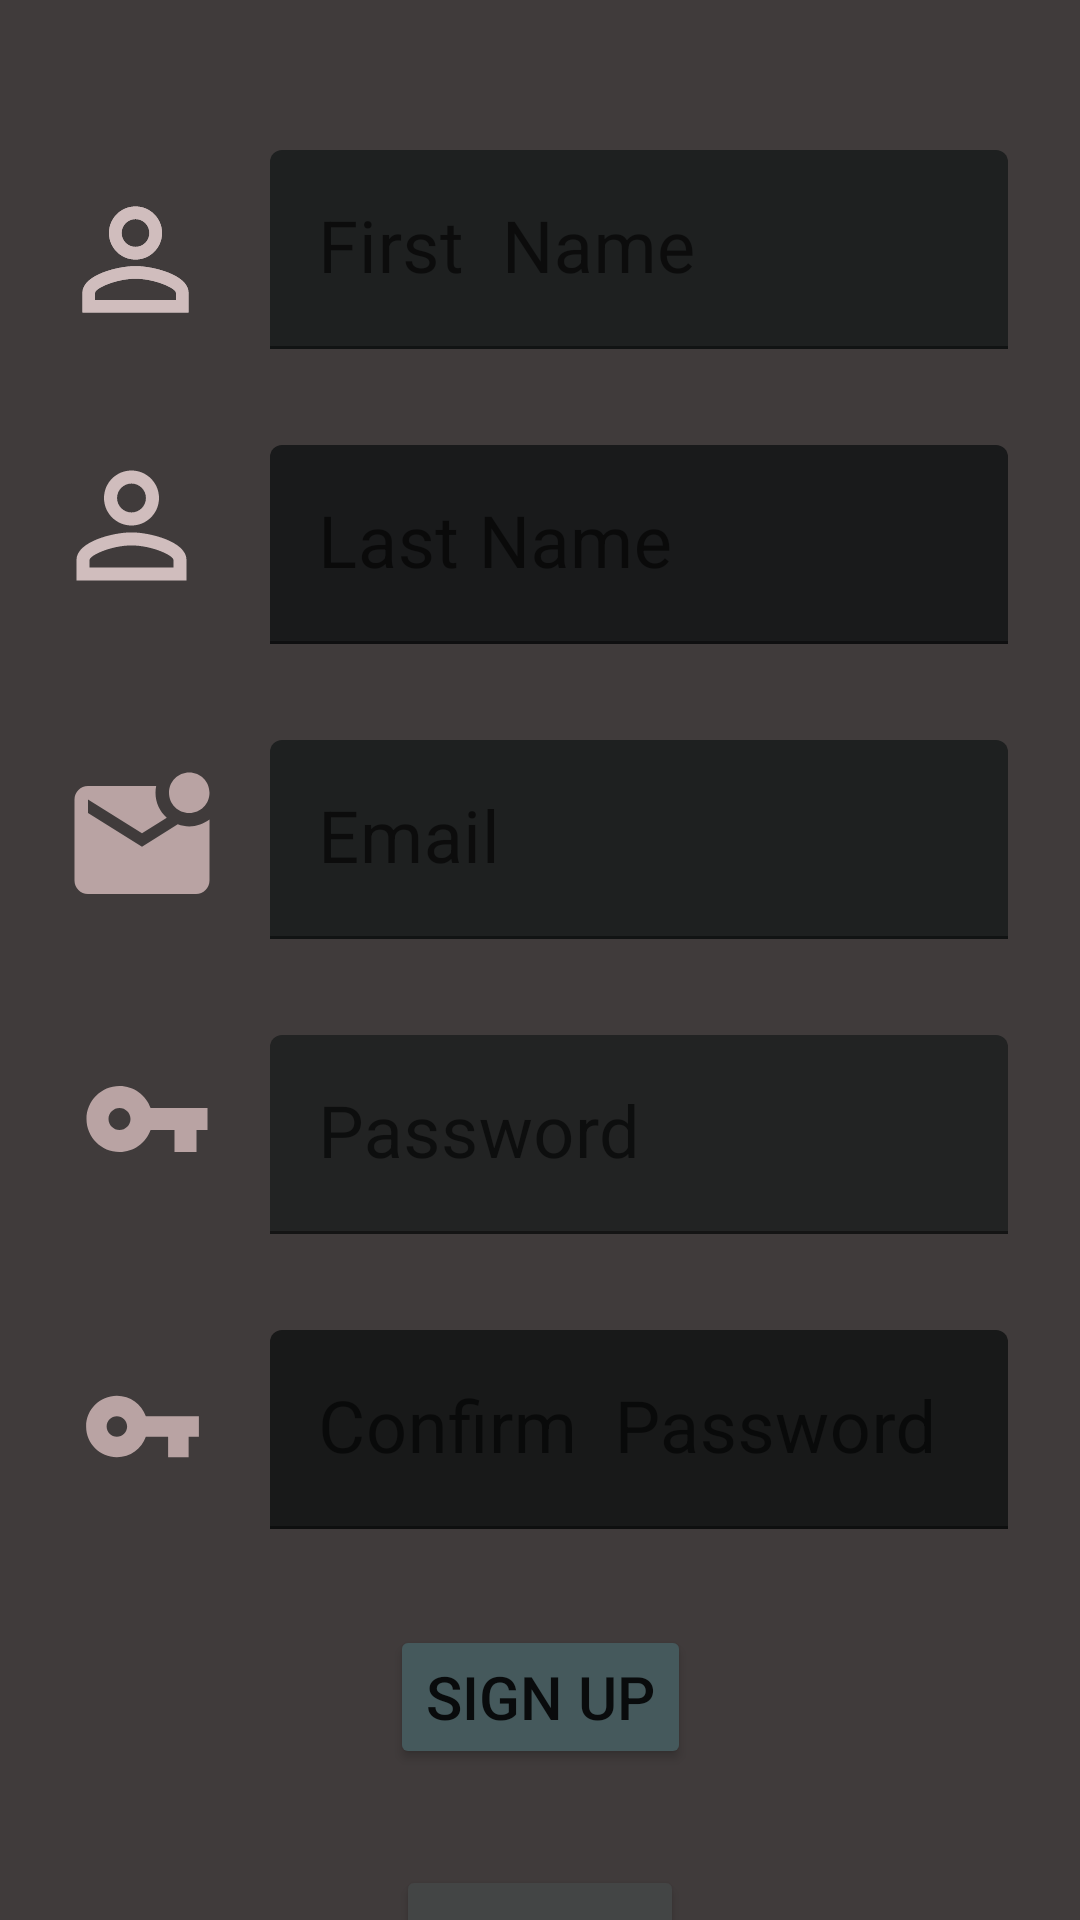

Icon bounding boxes for this 1080px x 1920px phone screenshot, format (x1, y1, x2, y2):
vpn key: (86, 1086, 208, 1152), (86, 1395, 199, 1458)
